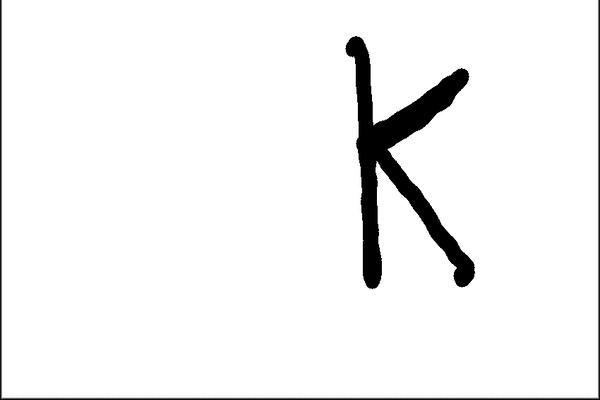K: (335, 24, 485, 294)
